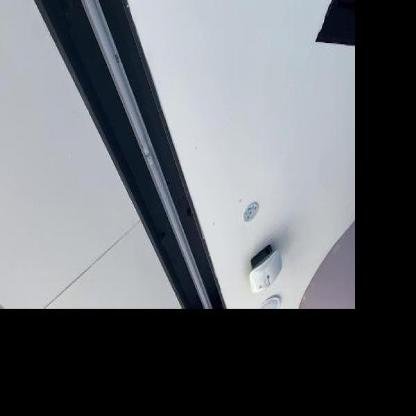light_off: (55, 0, 222, 309)
